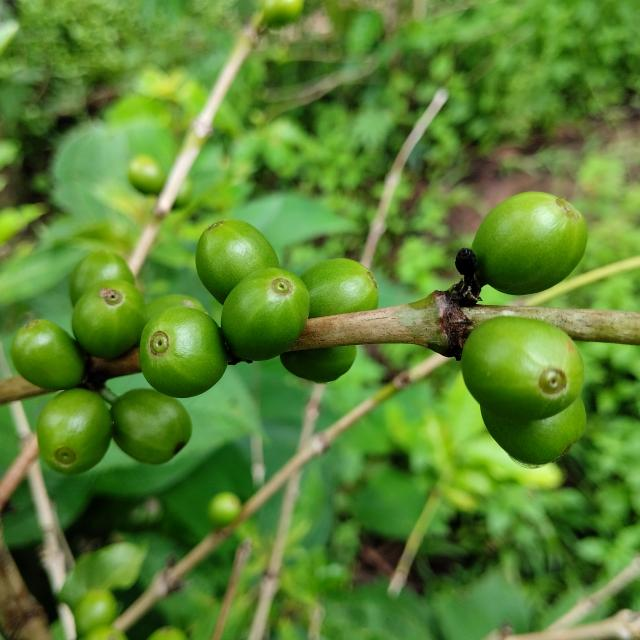green: (462, 316, 585, 421), (472, 191, 589, 295), (221, 268, 310, 361), (139, 307, 228, 398), (482, 398, 587, 469), (195, 219, 279, 304), (36, 389, 111, 475), (110, 389, 192, 465), (71, 280, 146, 358), (9, 319, 85, 391), (300, 258, 379, 318), (68, 251, 134, 307), (280, 346, 357, 383), (145, 294, 206, 321)
